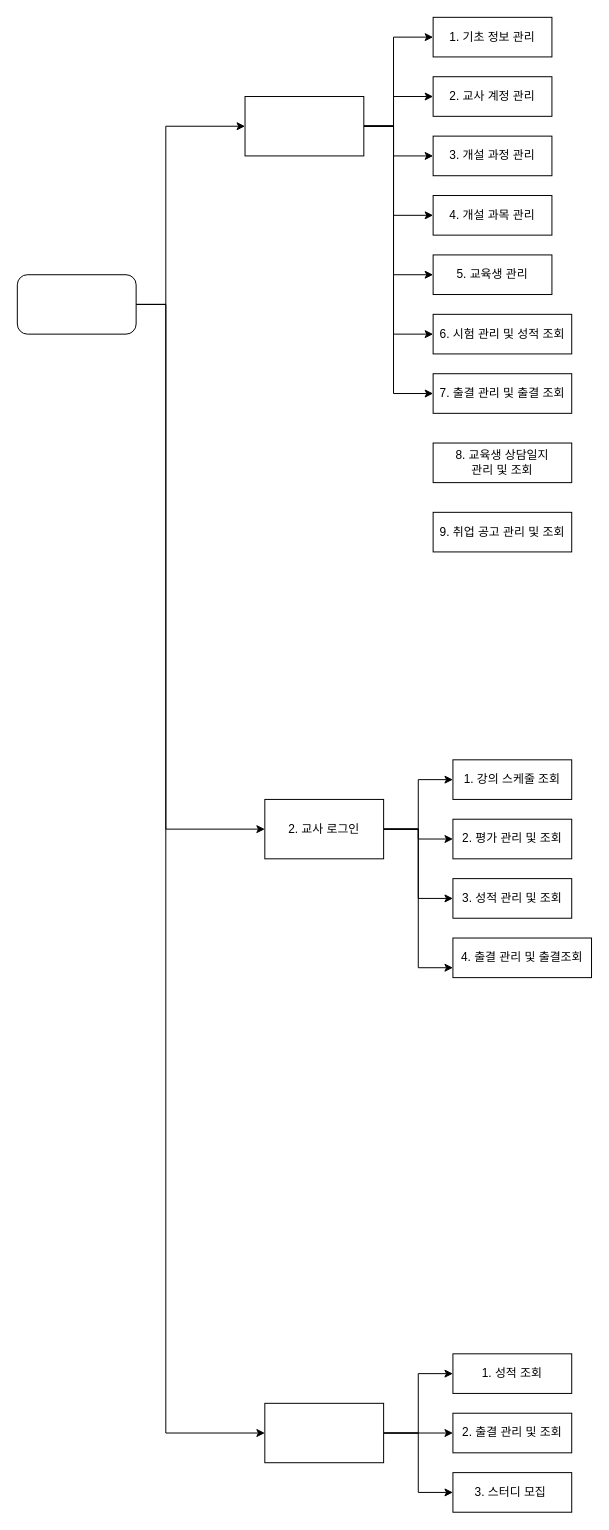
Some shapes in this 609 by 1530 pixel diagram are drawn without their labels. Each missing label, with the centre of its shape:
"1. 관리자 로그인" goes at (x=304, y=126).
"3. 교육생 로그인" goes at (x=324, y=1432).
"쌍용 교육 센터 관리 프로그램" goes at (x=76, y=304).
